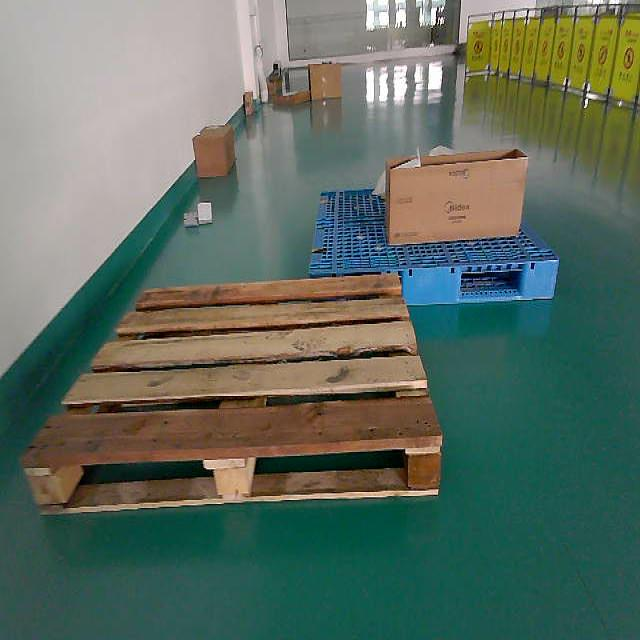euro: (23, 275, 441, 513)
